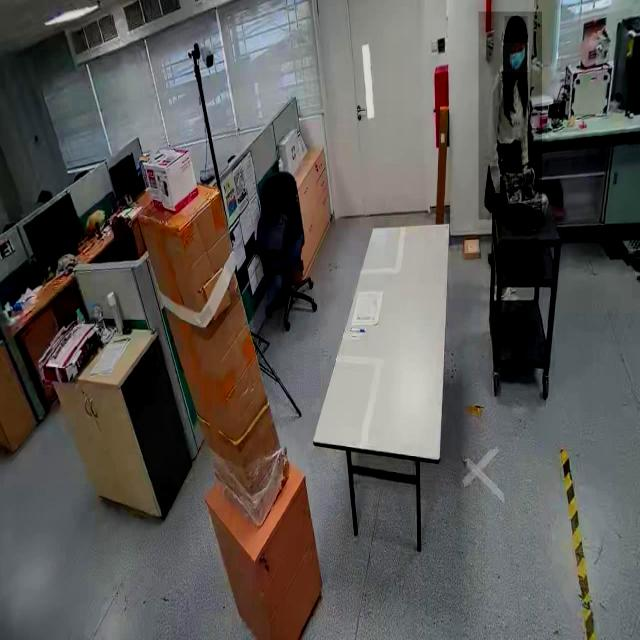face_mask: (501, 43, 529, 73)
hand_glove: (488, 166, 506, 196)
head_nohelmet: (504, 16, 528, 40)
person: (478, 12, 542, 220)
